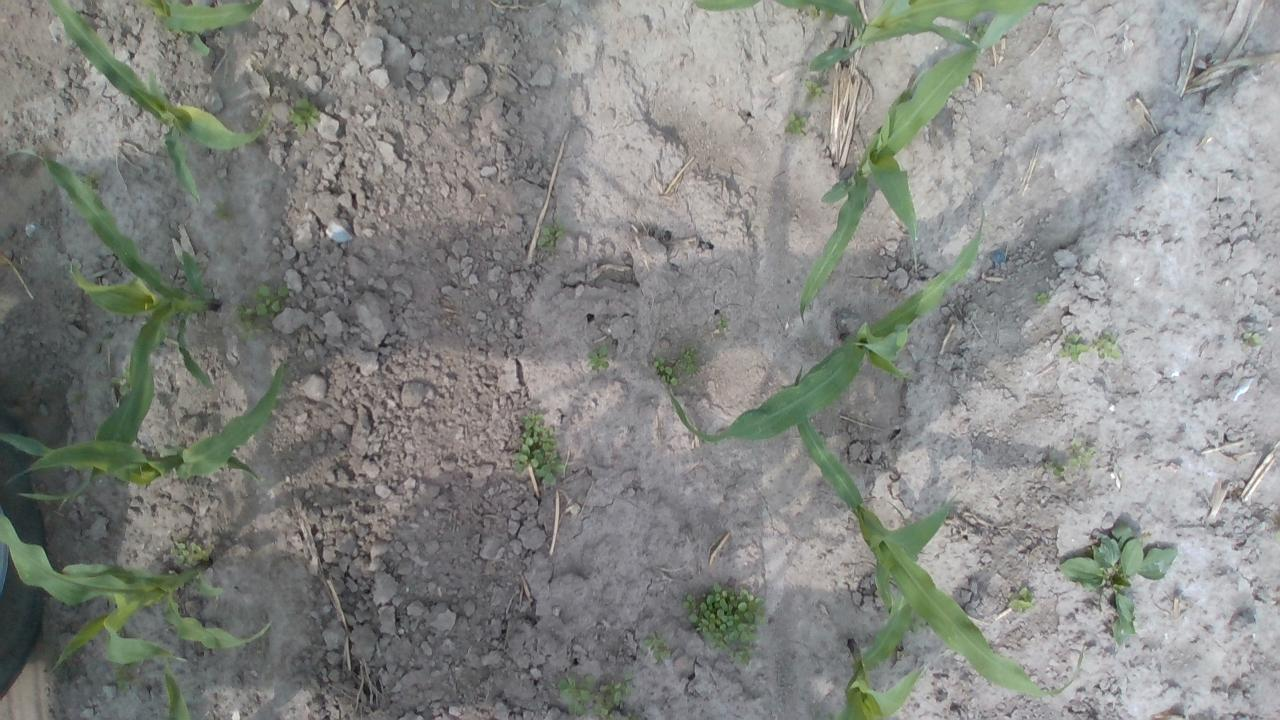Maize: (792, 361, 1090, 704), (664, 200, 986, 446), (7, 148, 222, 507), (800, 1, 1006, 328), (2, 510, 274, 717), (48, 1, 272, 204), (0, 358, 286, 509), (808, 1, 1038, 72), (830, 636, 930, 718), (691, 0, 865, 41), (142, 0, 255, 56)
Weeds: (1057, 514, 1181, 646), (681, 578, 764, 668), (514, 415, 566, 488), (557, 673, 631, 716), (237, 282, 288, 341), (1042, 435, 1092, 478), (650, 344, 701, 381), (1064, 334, 1122, 363), (173, 538, 208, 570), (286, 96, 316, 130), (640, 634, 673, 660), (107, 666, 136, 694), (1009, 582, 1032, 616), (536, 224, 560, 250), (590, 344, 612, 370), (800, 75, 823, 96), (1241, 330, 1265, 347), (786, 112, 805, 132), (718, 318, 731, 336), (1036, 290, 1048, 304)
